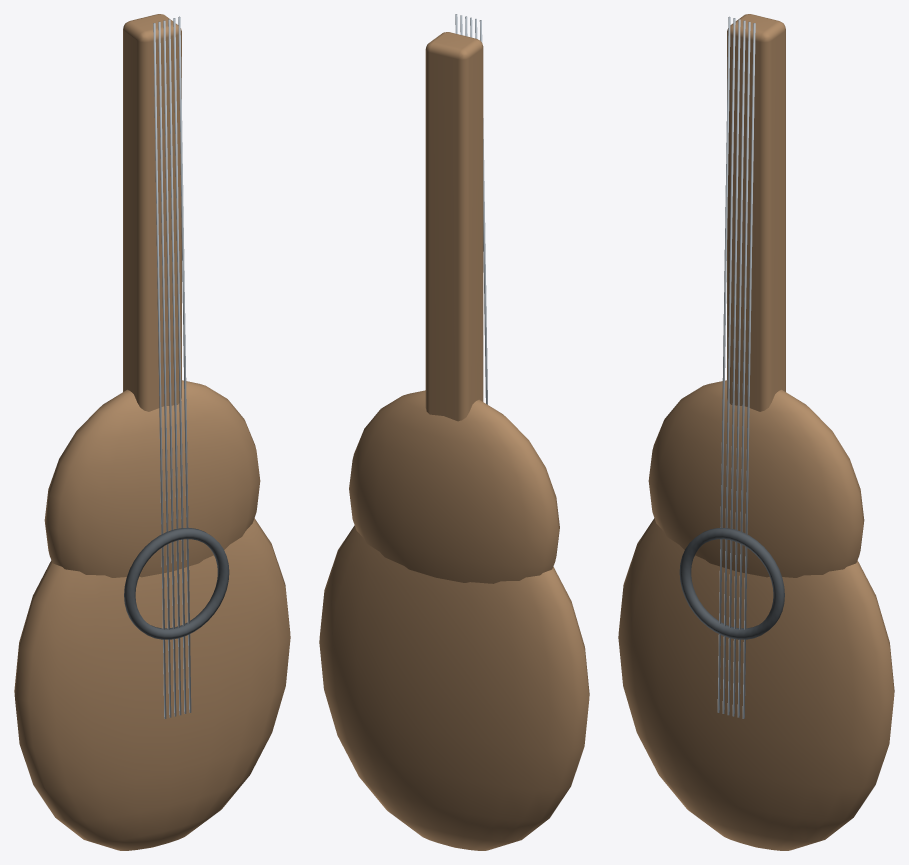
The model's file is atelier-guitar.glb.
3 renders of one model, left to right at view 1: azimuth 30°, elevation 25°; view 2: azimuth 150°, elevation 25°; view 3: azimuth 330°, elevation 25°, orthographic. The views are drawn at different scales.
Visible parts, largest first — view 1: legs.226, steel.062, metal.193; view 2: legs.226, steel.062; view 3: legs.226, steel.062, metal.193.
Part boxes in pixels (x1=…): legs.226: x1=14, y1=14, x2=290, y2=850; steel.062: x1=153, y1=16, x2=191, y2=718; metal.193: x1=124, y1=528, x2=229, y2=639; legs.226: x1=319, y1=32, x2=589, y2=850; steel.062: x1=455, y1=14, x2=487, y2=404; legs.226: x1=618, y1=14, x2=894, y2=850; steel.062: x1=717, y1=16, x2=755, y2=718; metal.193: x1=679, y1=528, x2=784, y2=639.
Bounding box in the file's own units: 0.44 × 1.28 × 0.14.
